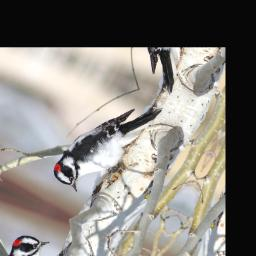Woodpecker: (48, 80, 165, 208)
